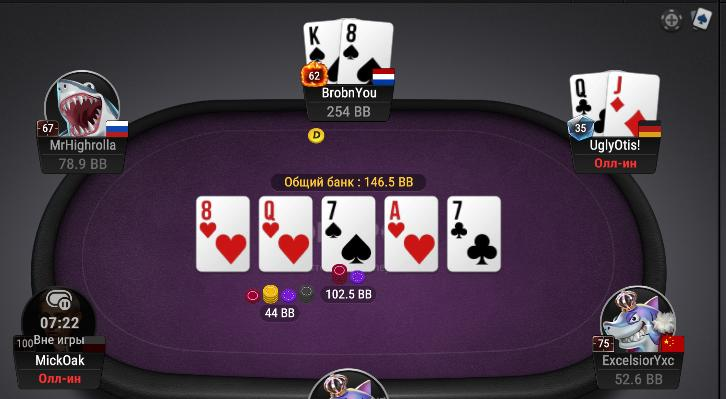7c: (448, 197, 501, 271)
7s: (323, 196, 376, 274)
8h: (196, 198, 248, 273)
8s: (339, 18, 394, 83)
Ah: (384, 198, 439, 272)
Jd: (608, 70, 659, 138)
Ks: (302, 19, 341, 88)
Qc: (569, 71, 607, 136)
Qh: (259, 196, 312, 273)
